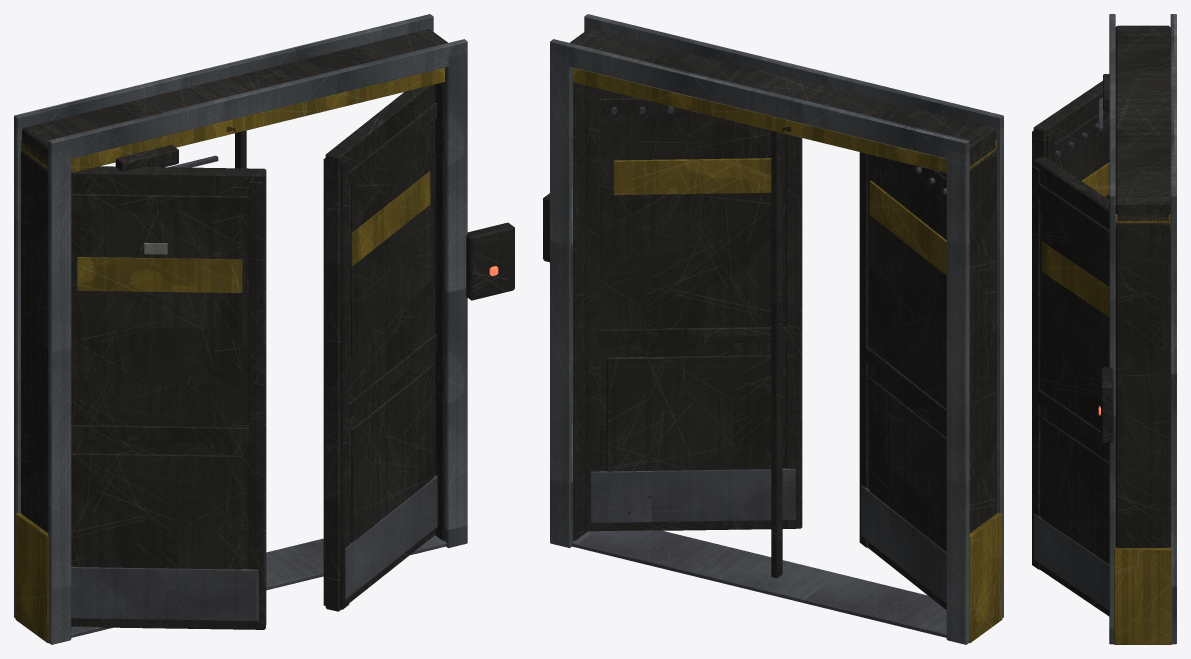
File: door_dbl_steel.glb
3 renders of one model, left to right at view 1: azimuth 30°, elevation 25°; view 2: azimuth 150°, elevation 25°; view 3: azimuth 270°, elevation 25°, orthographic. The views are drawn at different scales.
Visible parts, largest first — view 1: door, frame, door2; view 2: frame, door2, door; view 3: frame, door2, door.
Part boxes in pixels (x1,y1,x2,y2): door: (71,166,266,629); frame: (14,14,514,644); door2: (323,84,437,611); frame: (543,14,1003,644); door2: (586,85,802,531); door: (859,152,946,609); frame: (1098,14,1176,644); door2: (1032,156,1109,616); door: (1032,81,1109,199).
Bounding box in the file's own units: 2.25 × 2.35 × 0.6858.
Materials: 6 (5 with a texture image).
